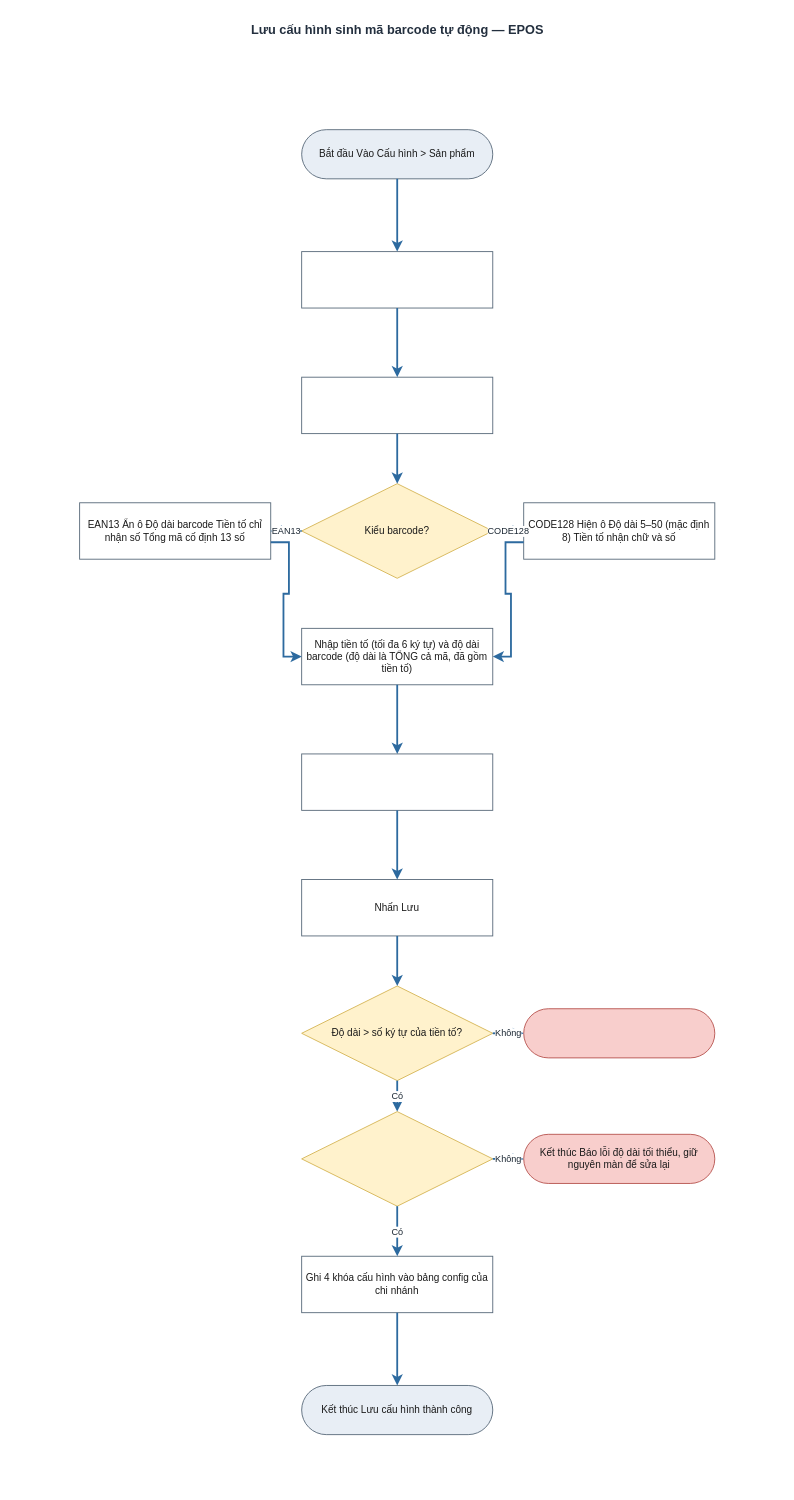
This 794x1500 diagram has some shape labels left out. The shapes that lost their labels are listed below. From the top down, each one's box as (x1, y1, x2, y2) in pixels, then its label:
(301, 251, 493, 308): Đọc cấu hình chi nhánh và hiện trạng thái đã lưu
(301, 376, 493, 434): Chọn Áp dụng ở mục Tự động sinh mã Barcode
(301, 753, 493, 810): Dựng lại Barcode mẫu tức thì kèm số ký tự thực tế
(523, 1008, 715, 1058): Kết thúc Báo lỗi độ dài phải lớn hơn số ký tự tiền tố
(301, 1111, 493, 1206): Phần số chạy ≥ số chữ số bộ đếm hiện tại?
